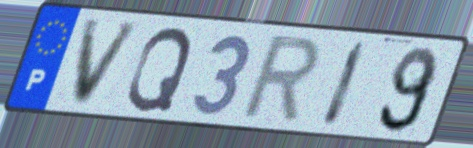3: (190, 31, 256, 119)
9: (375, 44, 441, 137)
I: (317, 38, 372, 131)
Q: (124, 25, 196, 114)
R: (235, 32, 326, 128)
V: (69, 19, 146, 110)
